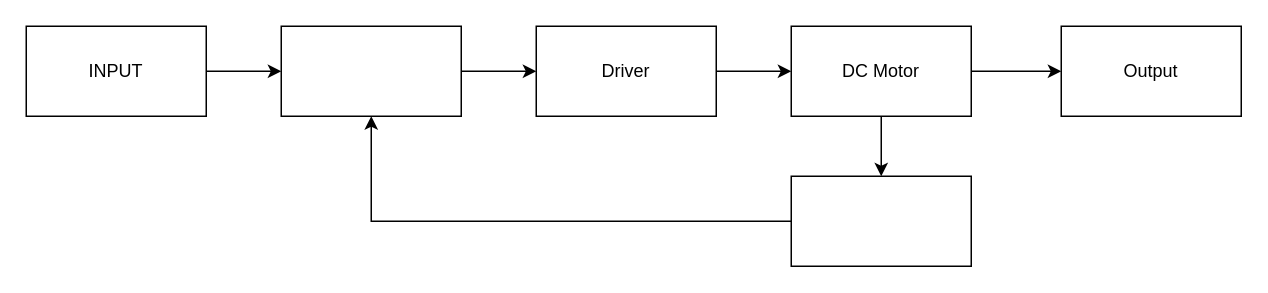
The diagram is 1268 pixels wide and 293 high, and some of its shapes have lost their labels. The shapes that lost their labels are listed below. From the top down, each one's centre as x and y in pixels, then its label:
point (370, 70): Microcontroller
point (880, 220): Encoder
